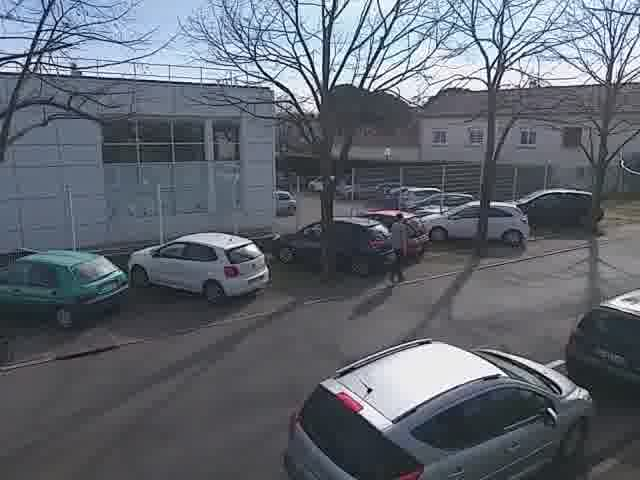persona: (376, 202, 414, 287)
